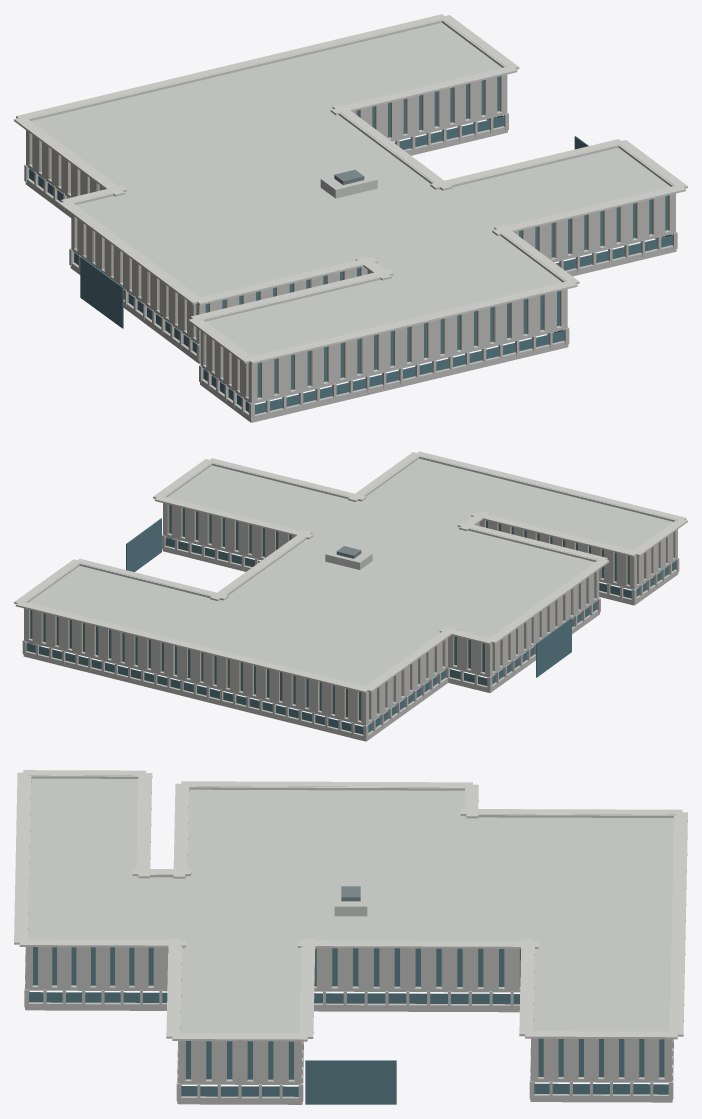
File: gongpei.glb
The picture shows the model from 3 angles, top to bottom: view 1: azimuth 30°, elevation 25°; view 2: azimuth 150°, elevation 25°; view 3: azimuth 270°, elevation 25°; orthographic projection. The views are drawn at different scales.
Visible parts, largest first — view 1: roof, wall, trim, glass, stone; view 2: roof, wall, trim, glass, stone; view 3: roof, wall, trim, glass, stone.
Boxes of the visible parts, x1,y1,x2,y2 form: roof: (31, 23, 670, 356); wall: (24, 74, 677, 422); trim: (14, 14, 687, 400); glass: (29, 76, 672, 414); stone: (30, 76, 669, 398); roof: (28, 458, 672, 686); wall: (22, 503, 679, 741); trim: (14, 451, 687, 722); glass: (26, 504, 675, 734); stone: (28, 504, 674, 720); roof: (28, 778, 673, 1033); wall: (24, 947, 673, 1104); trim: (14, 770, 687, 1081); glass: (29, 947, 668, 1104); stone: (32, 947, 664, 1080).
Size of the model in its own units: 98.03 by 14.1 by 104.
